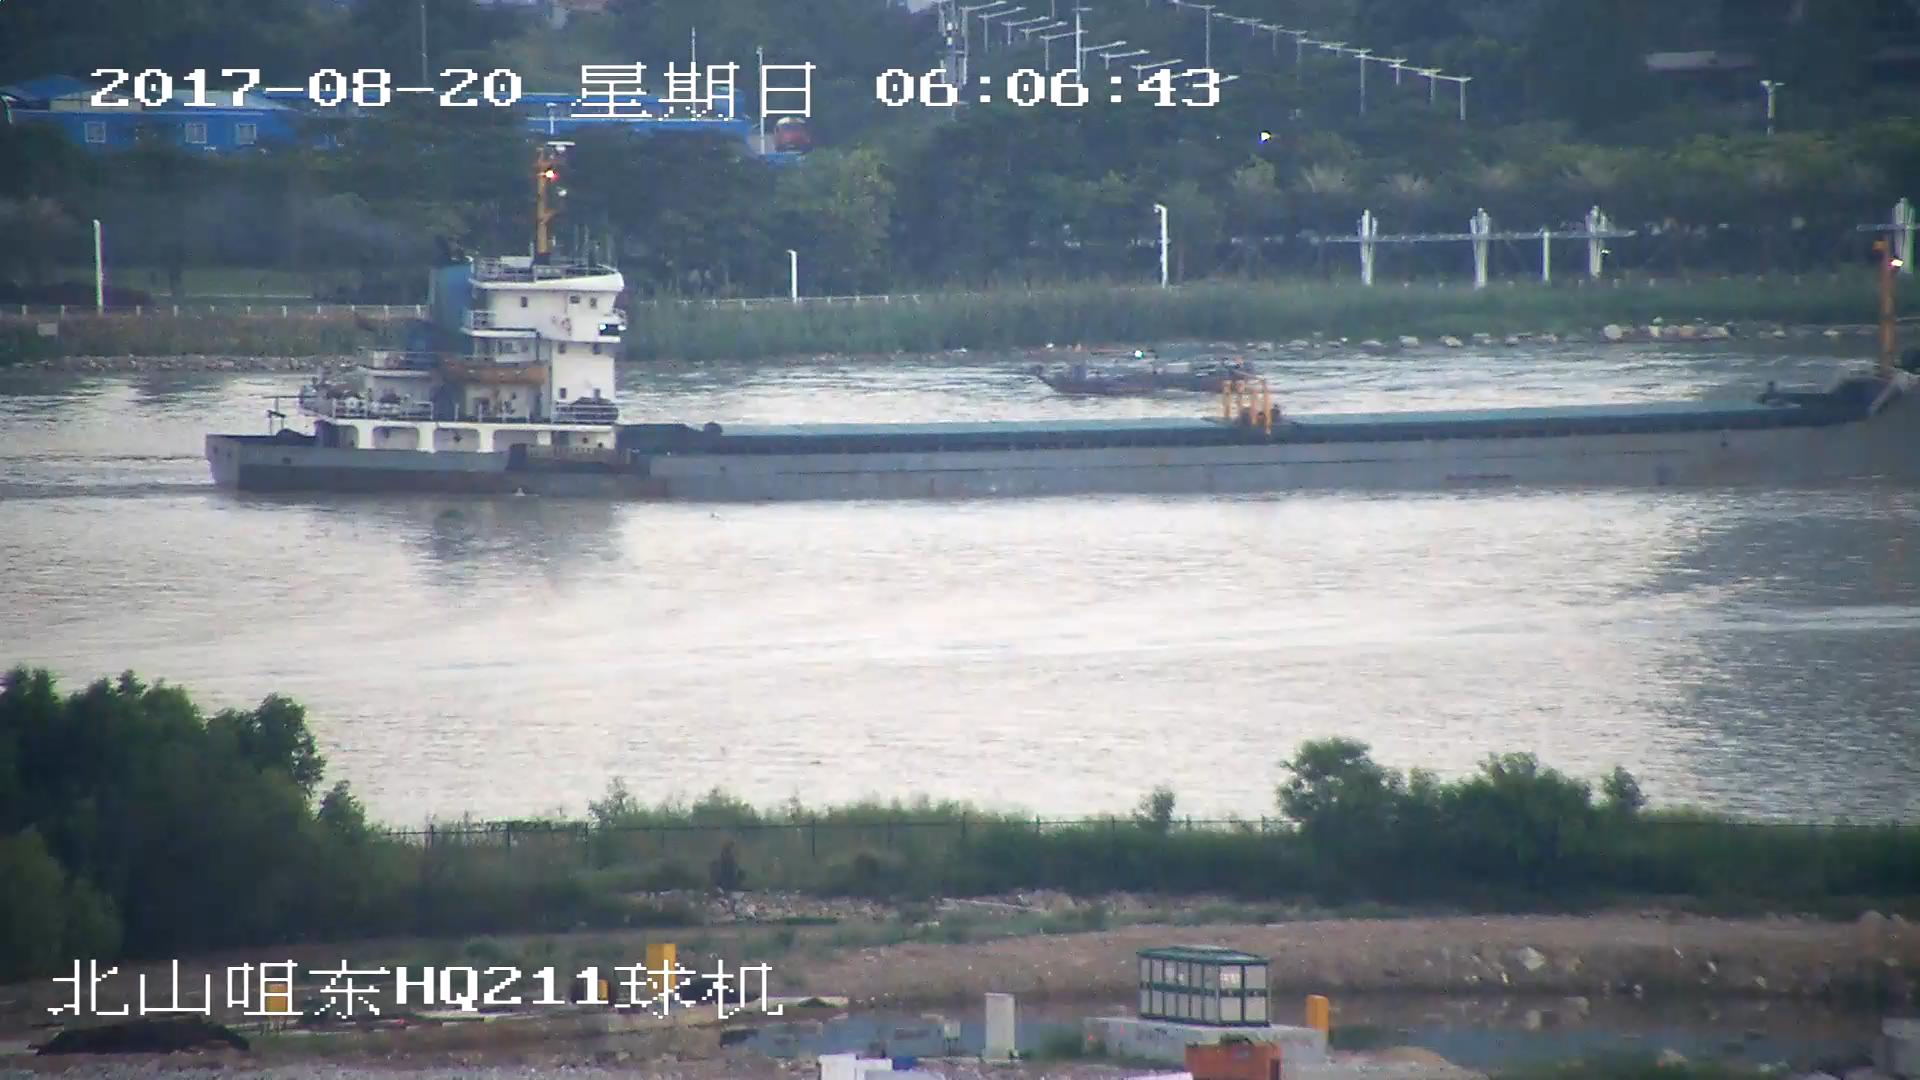fishing boat: (1037, 348, 1249, 390)
general cargo ship: (204, 208, 1920, 492)
